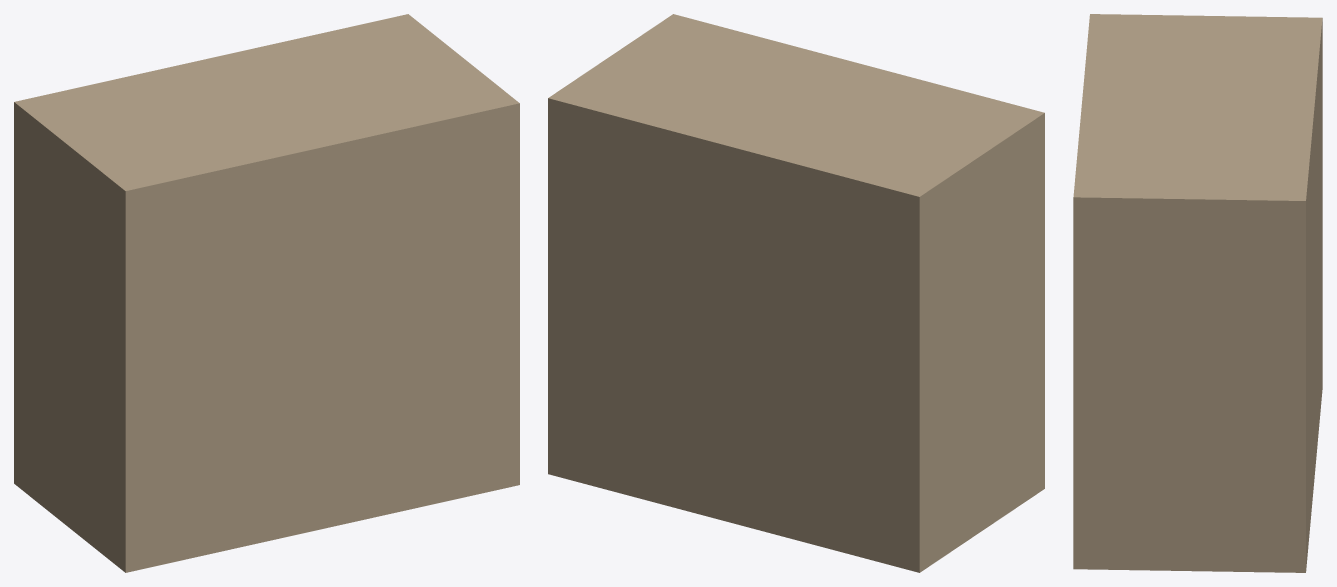
Rendered from bld_106415332.dae.
3 renders of one model, left to right at view 1: azimuth 30°, elevation 25°; view 2: azimuth 150°, elevation 25°; view 3: azimuth 270°, elevation 25°, orthographic. The views are drawn at different scales.
Parts seen in each view (by area): view 1: bld_106415332; view 2: bld_106415332; view 3: bld_106415332.
Boxes of the visible parts, bbox=[...] form: bld_106415332: bbox=[14, 14, 519, 572]; bld_106415332: bbox=[548, 14, 1044, 572]; bld_106415332: bbox=[1073, 14, 1322, 572].
Bounding box in the file's own units: 8.63 × 4.86 × 8.
